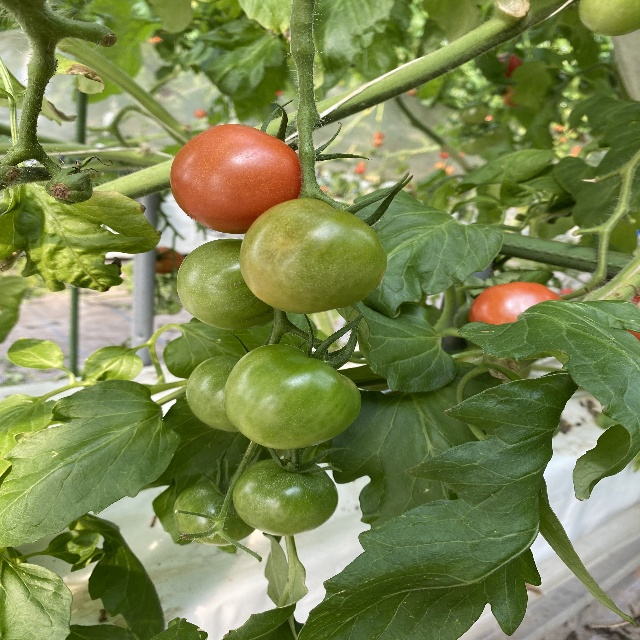l_fully_ripened: (169, 123, 301, 234), (468, 282, 564, 324)
l_green: (238, 198, 388, 314), (224, 342, 360, 450), (176, 238, 288, 330), (231, 457, 340, 536), (173, 478, 256, 546), (187, 356, 240, 432), (579, 0, 639, 37)
